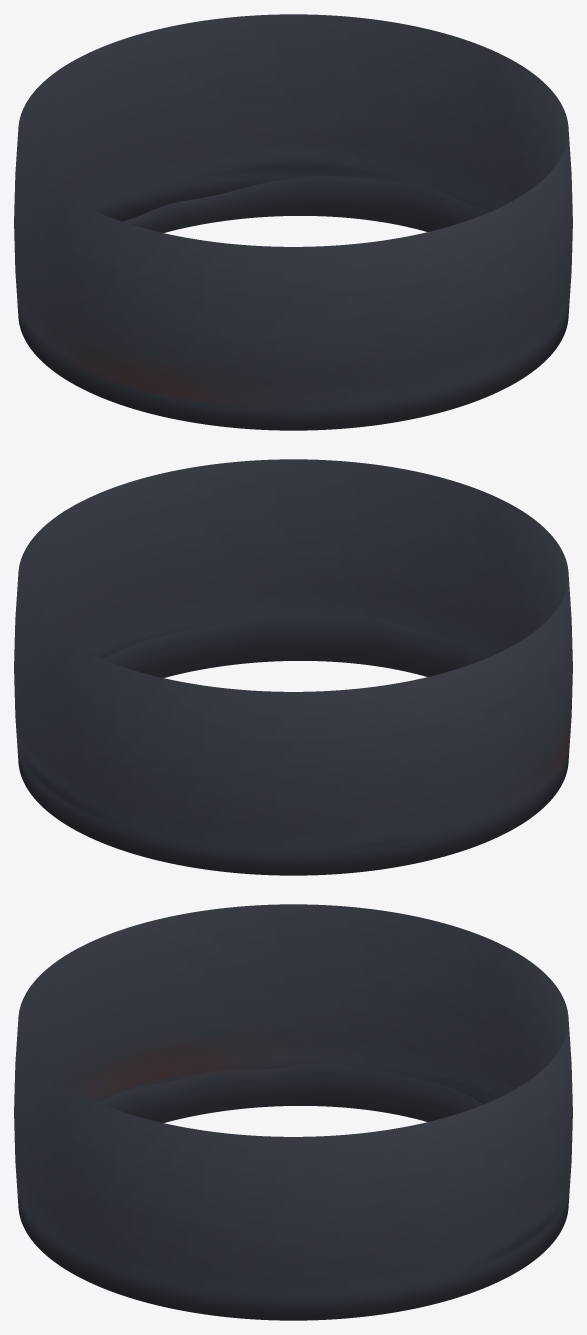
File: night-shift-panorama.glb
3 renders of one model, top to bottom at view 1: azimuth 30°, elevation 25°; view 2: azimuth 150°, elevation 25°; view 3: azimuth 270°, elevation 25°, orthographic.
Visible parts, largest first — view 1: NightShiftPanorama; view 2: NightShiftPanorama; view 3: NightShiftPanorama.
Part boxes in pixels (x1,y1,x2,y2): NightShiftPanorama: (14,14,572,430); NightShiftPanorama: (14,459,572,875); NightShiftPanorama: (14,904,572,1320).
Size of the model in its own units: 386 by 140 by 386.
Materials: 1 (1 with a texture image).
